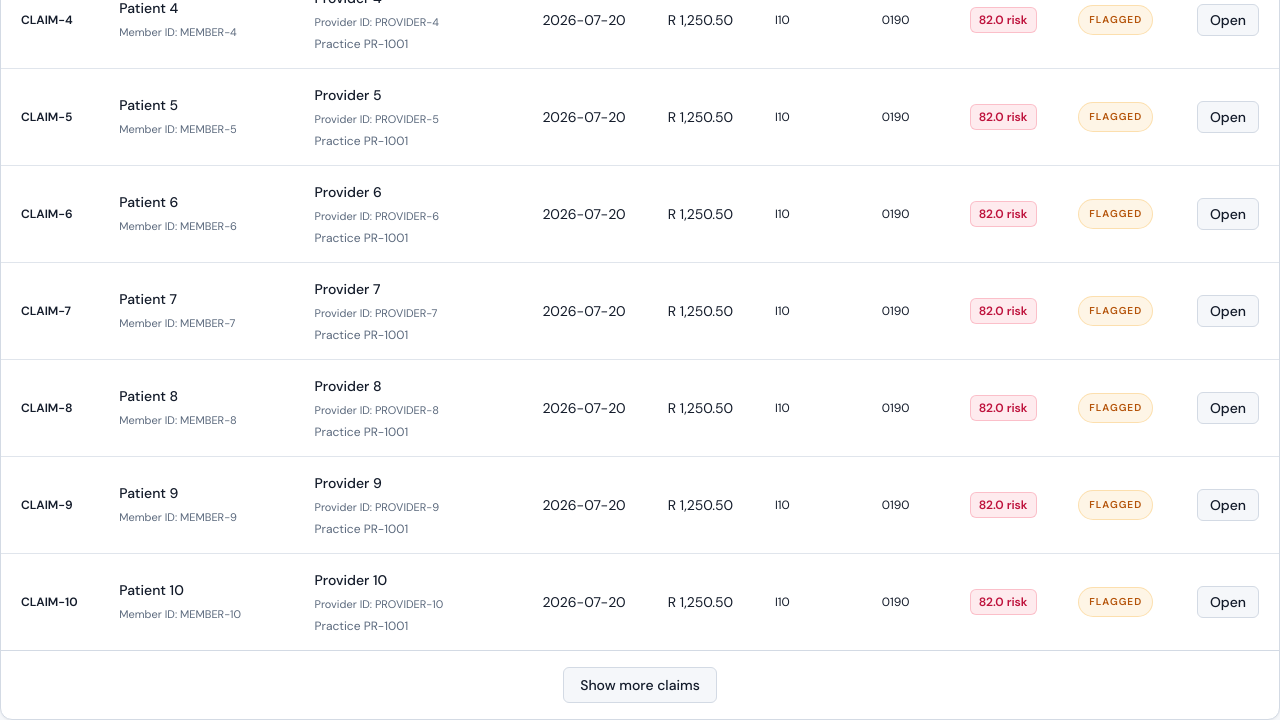
Test: desktop claim investigation context › shows ten cached claims initially, reveals more, and searches IDs and classifications
The width and height of the screenshot is (1280, 720).
(page scrolled)
Click the button "Show more claims": (640, 685) left=563, top=667, right=717, bottom=703
(page scrolled)
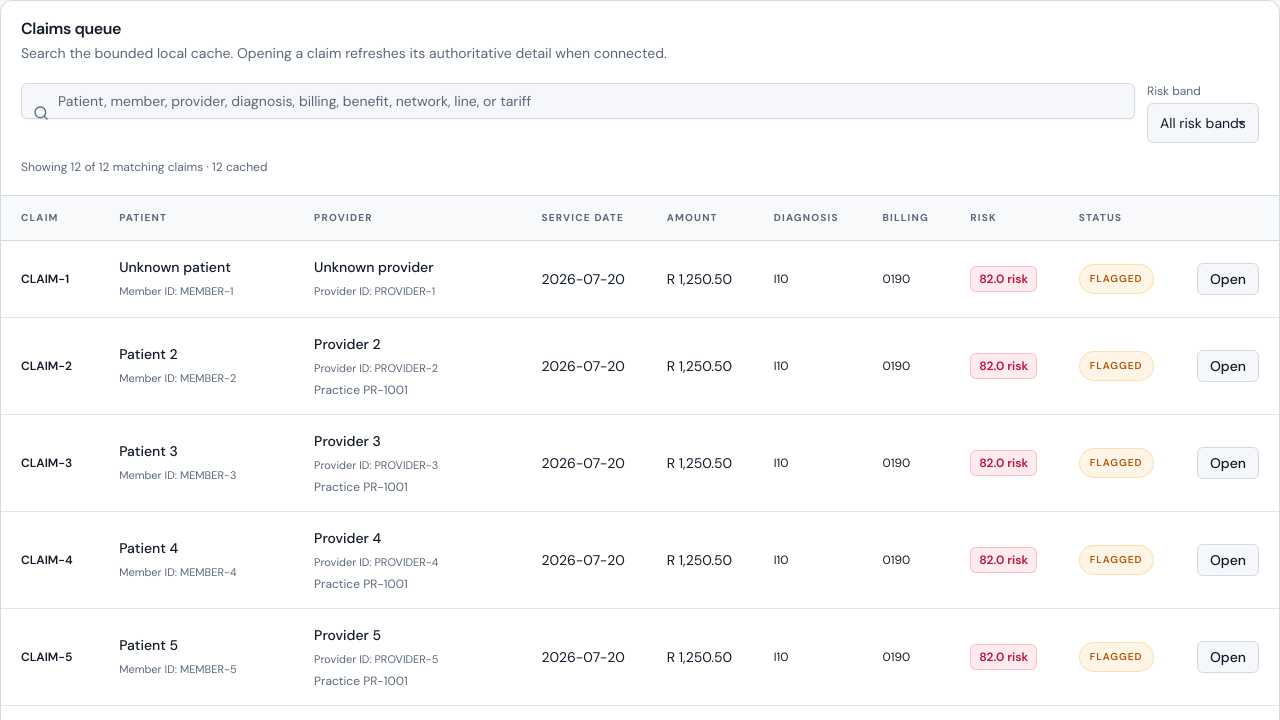
expect the number of buttons "Open" is 12: met
Replace the text in the field named "Search claims" with "SEARCH-DX": (578, 101) left=21, top=83, right=1135, bottom=119
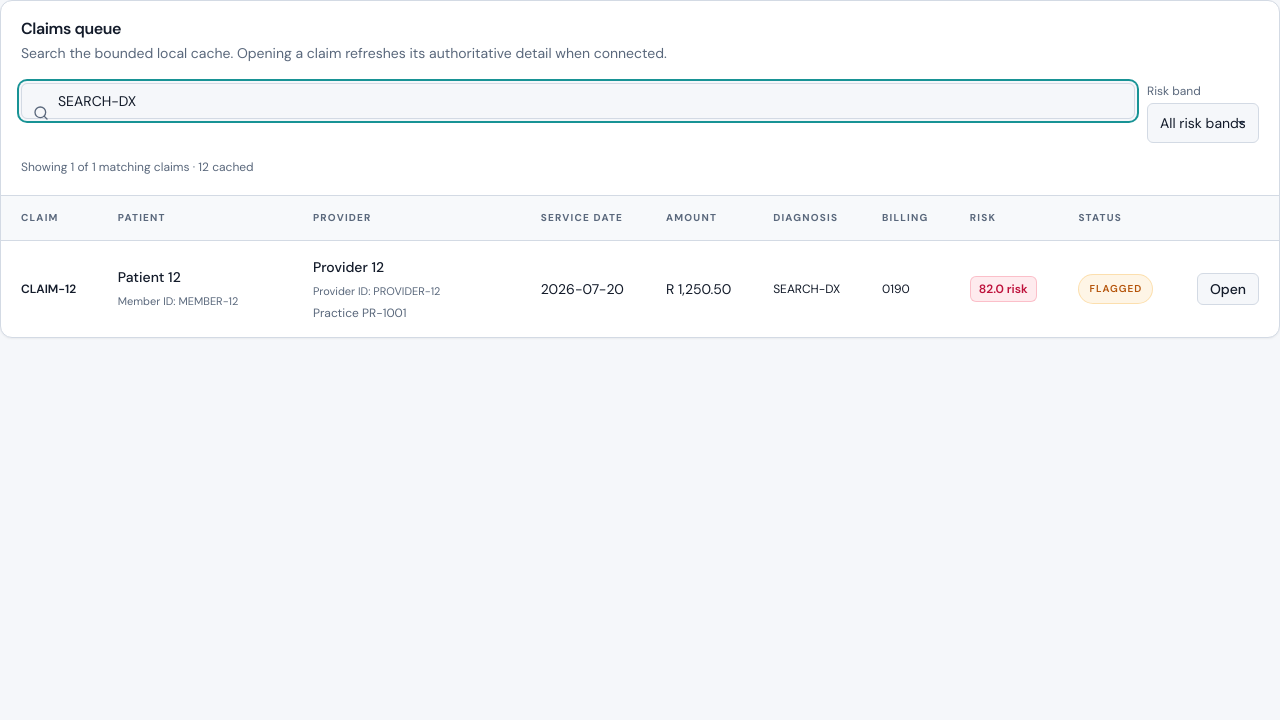
expect the text "CLAIM-12" is shown: met, box left=1, top=240, right=98, bottom=337
expect the number of buttons "Open" is 1: met, box left=1197, top=273, right=1259, bottom=305
